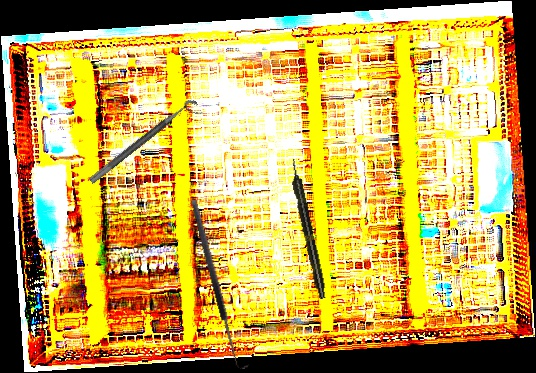Fixation Ring: (87, 96, 205, 194)
Handpiece: (287, 158, 329, 300)
Hook Surgical: (189, 196, 251, 372)
